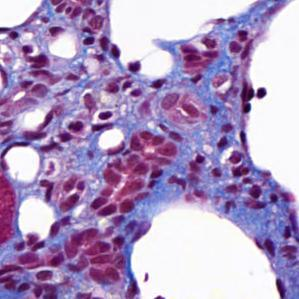inflammation: (89, 107, 120, 133), (218, 143, 245, 166)
